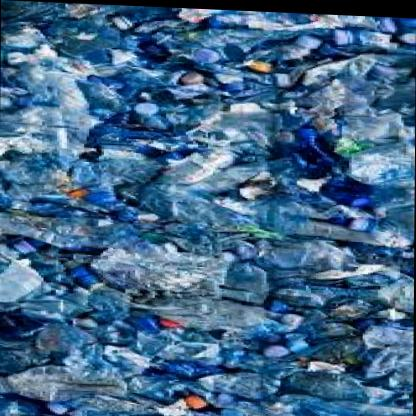Plastic: (0, 1, 411, 416)
